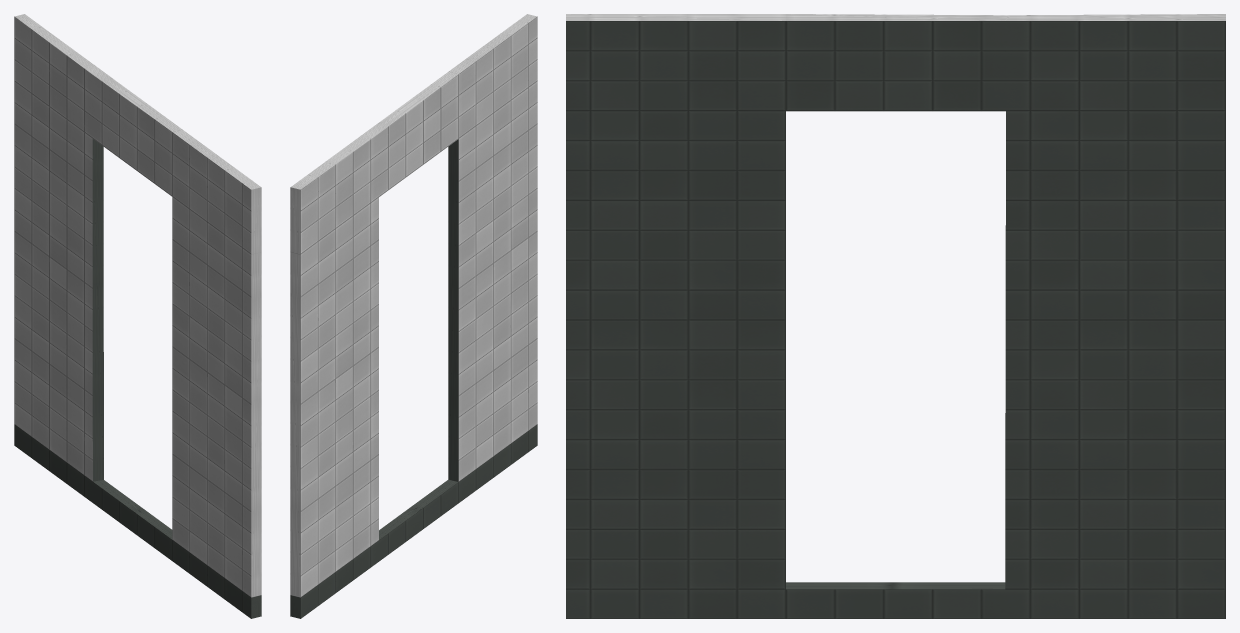
File: wall door.fbx
3 views of the same model, side by side, from view 1: azimuth 30°, elevation 25°; view 2: azimuth 150°, elevation 25°; view 3: azimuth 270°, elevation 25° (orthographic). The views are drawn at different scales.
Parts seen in each view (by area): view 1: wall main door; view 2: wall main door; view 3: wall main door.
Boxes of the visible parts, x1,y1,x2,y2 form: wall main door: (14, 14, 261, 618); wall main door: (290, 14, 537, 618); wall main door: (566, 14, 1225, 618).
Bounding box in the file's own units: 10 × 400 × 400.
